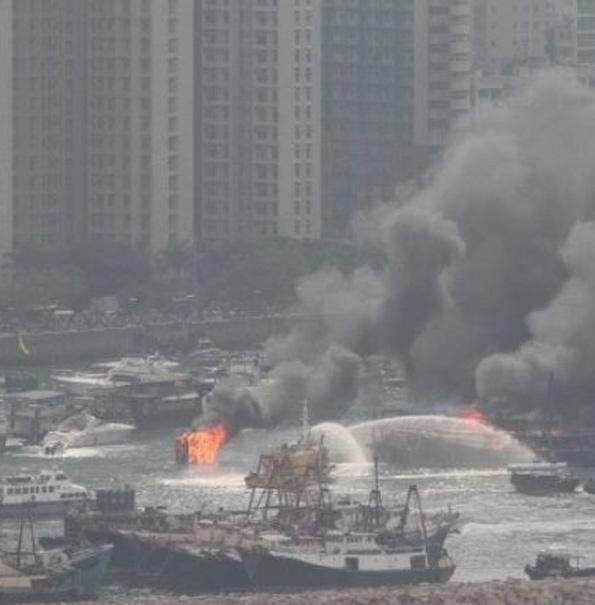fire: (180, 420, 227, 464)
